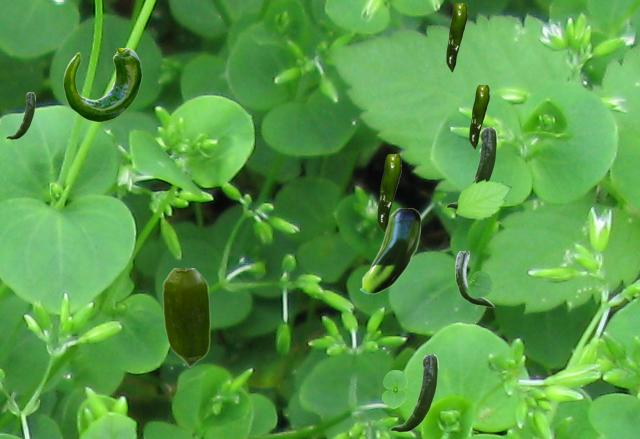green_chili: (63, 48, 141, 120), (359, 208, 419, 293), (162, 268, 209, 366), (446, 127, 496, 208), (390, 354, 437, 431), (455, 251, 493, 306), (377, 154, 400, 231), (446, 3, 466, 71), (6, 92, 34, 138), (469, 85, 488, 148)
